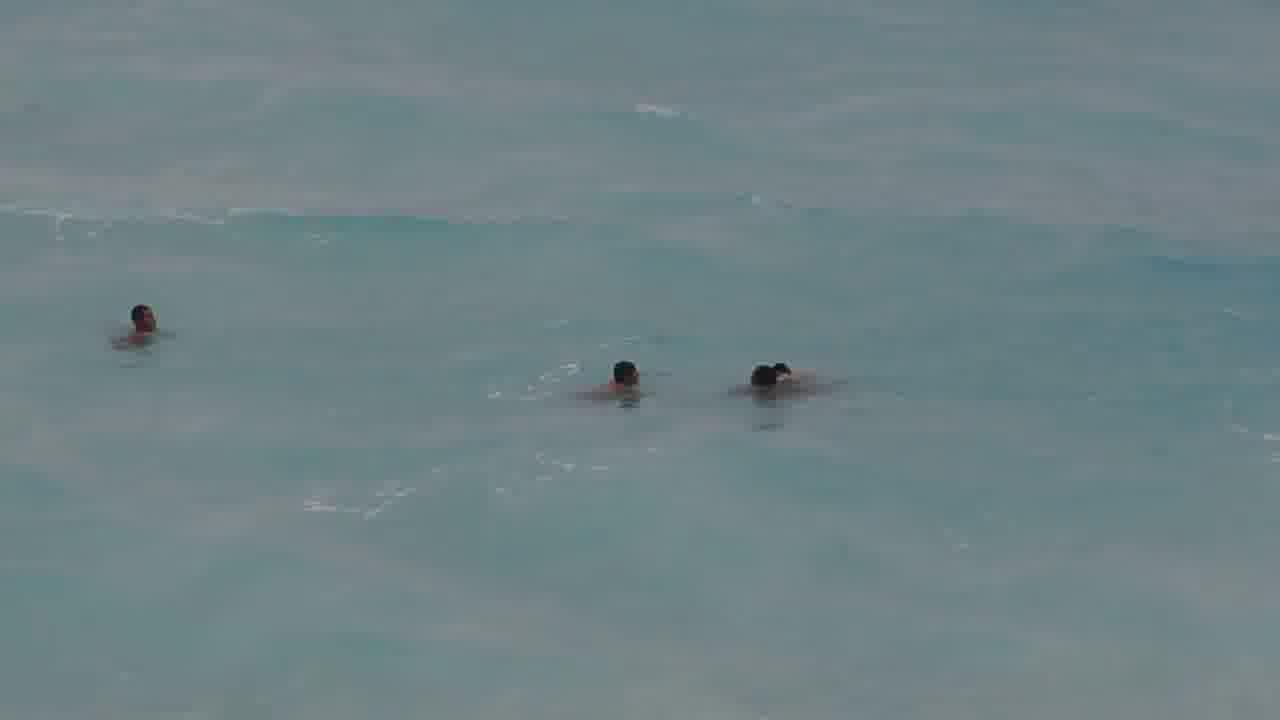swimmer: (116, 298, 171, 374), (597, 351, 662, 409), (755, 347, 796, 418)
